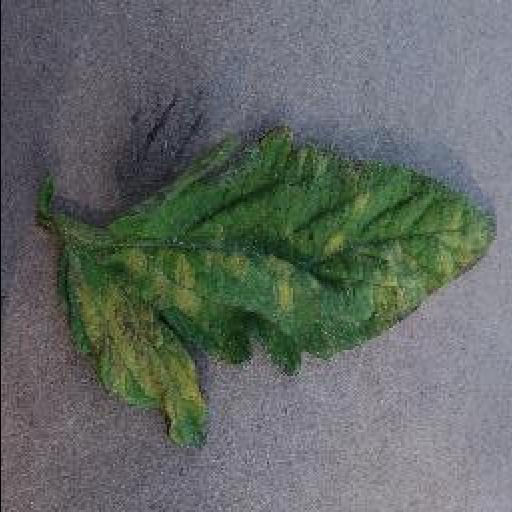disease_tomato: (60, 130, 498, 450)
